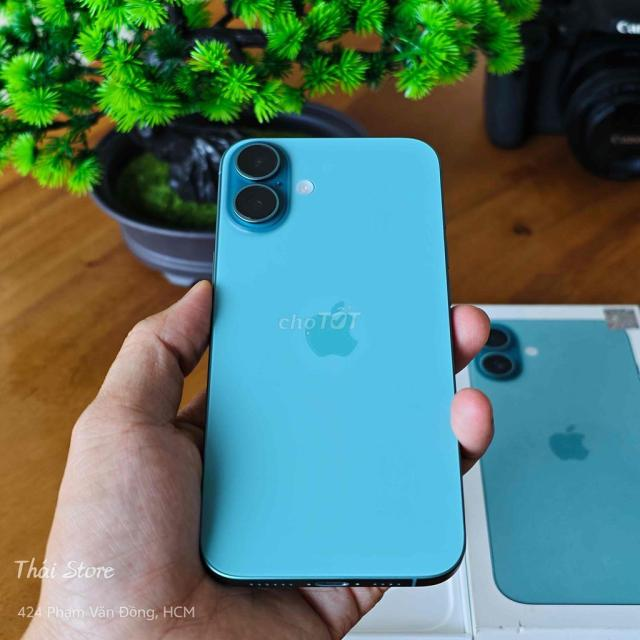gen_16: (180, 128, 471, 596)
